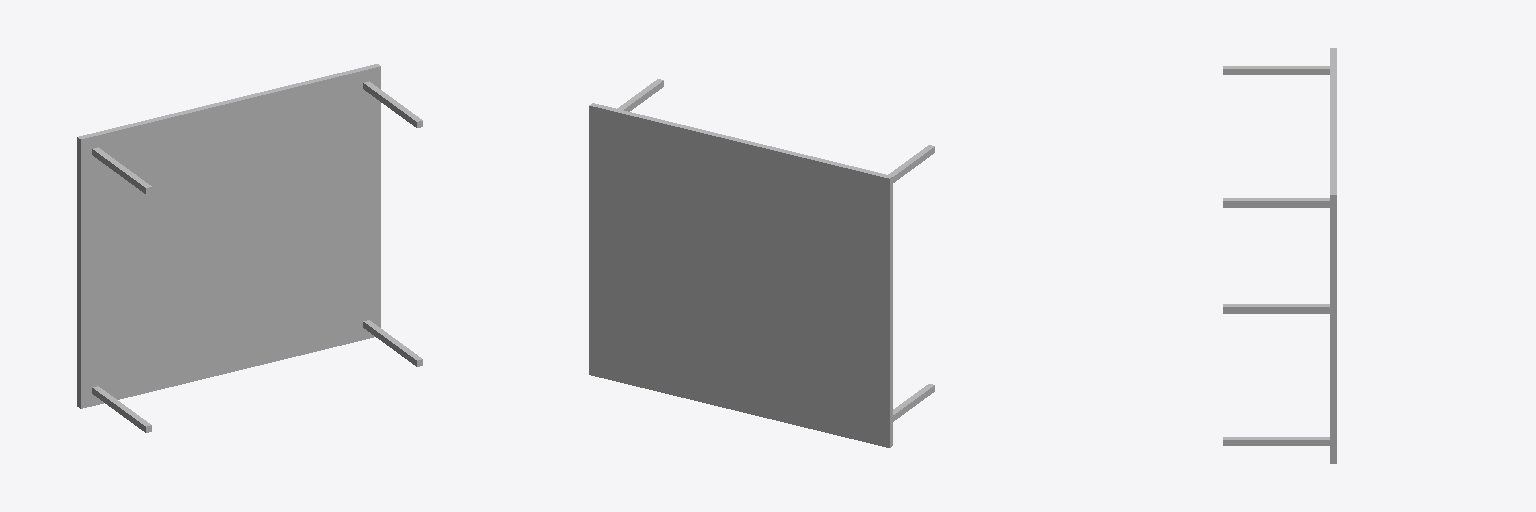
The model's file is random_table96.obj.
3 views of the same model, side by side, from view 1: azimuth 30°, elevation 25°; view 2: azimuth 150°, elevation 25°; view 3: azimuth 270°, elevation 25° (orthographic).
Visible parts, largest first — view 1: Table_Cube.1545, TableLeg2_Cube.1548, TableLeg3_Cube.1549, TableLeg0_Cube.1546, TableLeg1_Cube.1547; view 2: Table_Cube.1545; view 3: Table_Cube.1545, TableLeg0_Cube.1546, TableLeg3_Cube.1549, TableLeg1_Cube.1547, TableLeg2_Cube.1548.
Part boxes in pixels (x1,y1,x2,y2): Table_Cube.1545: (77,64,380,408); TableLeg2_Cube.1548: (363,320,422,366); TableLeg3_Cube.1549: (92,386,151,432); TableLeg0_Cube.1546: (363,81,422,127); TableLeg1_Cube.1547: (92,147,151,193); Table_Cube.1545: (589,103,892,447); Table_Cube.1545: (1330,48,1336,463); TableLeg0_Cube.1546: (1223,198,1329,207); TableLeg3_Cube.1549: (1223,304,1329,313); TableLeg1_Cube.1547: (1223,66,1329,74); TableLeg2_Cube.1548: (1223,437,1329,445).
Bounding box in the file's own units: 8.87 × 7.6 × 2.92.